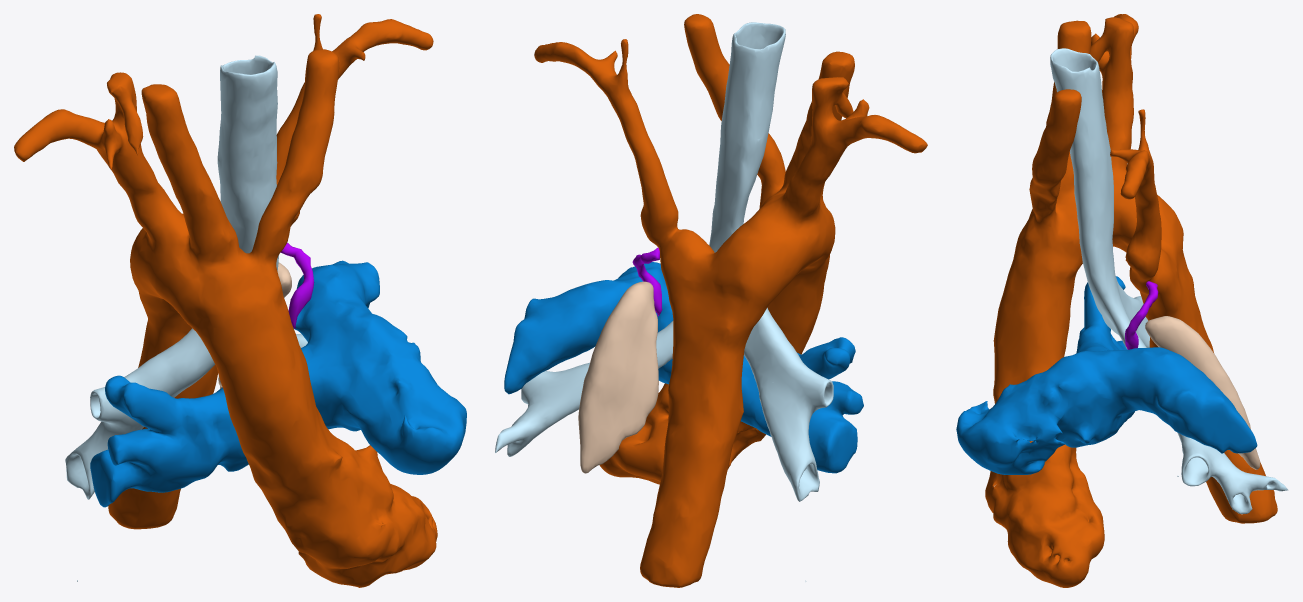
Rendered from RAA type3.gltf.
The picture shows the model from 3 angles, left to right: view 1: azimuth 30°, elevation 25°; view 2: azimuth 150°, elevation 25°; view 3: azimuth 270°, elevation 25°; orthographic projection. The views are drawn at different scales.
Parts seen in each view (by area): view 1: aorta, pulmonary artery, trachea, ligamentum arteriosum; view 2: aorta, trachea, pulmonary artery, esophagus, ligamentum arteriosum; view 3: aorta, pulmonary artery, trachea, esophagus, ligamentum arteriosum.
Part boxes in pixels (box(x1,y1,x2,y2)): aorta: box(14, 14, 437, 587); pulmonary artery: box(90, 260, 466, 507); trachea: box(65, 55, 307, 581); ligamentum arteriosum: box(280, 242, 314, 328); aorta: box(534, 14, 927, 587); trachea: box(495, 22, 833, 581); pulmonary artery: box(504, 262, 863, 473); esophagus: box(578, 281, 658, 473); ligamentum arteriosum: box(632, 247, 662, 316); aorta: box(985, 14, 1277, 587); pulmonary artery: box(956, 276, 1257, 474); trachea: box(1050, 48, 1288, 514); esophagus: box(1145, 316, 1260, 469); ligamentum arteriosum: box(1125, 281, 1158, 349).
Size of the model in its own units: 53.87 by 65.21 by 42.03.
